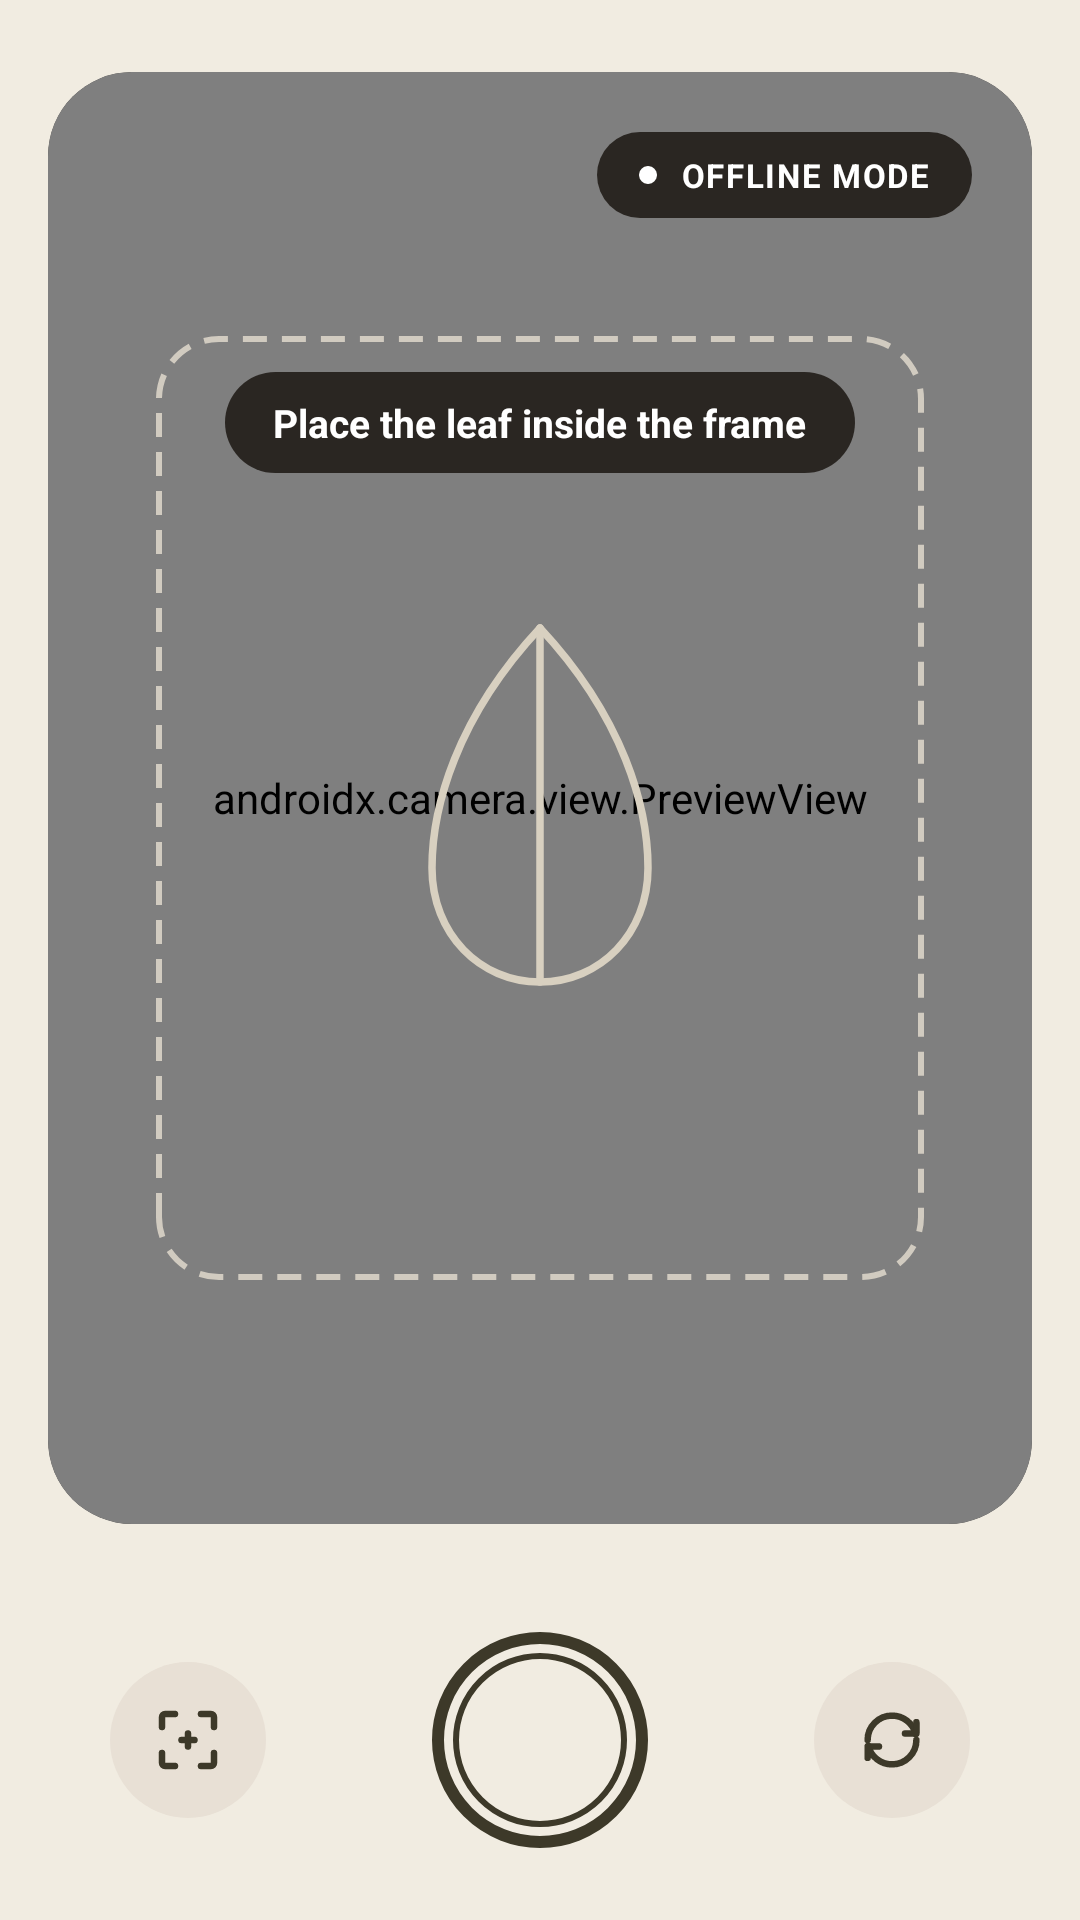

Where icons sit on this 1080px x 1920px app screen, as detection(x1, y1, x2, y2):
camera frame: detection(110, 1662, 266, 1818)
camera rotate: detection(814, 1662, 970, 1818)
